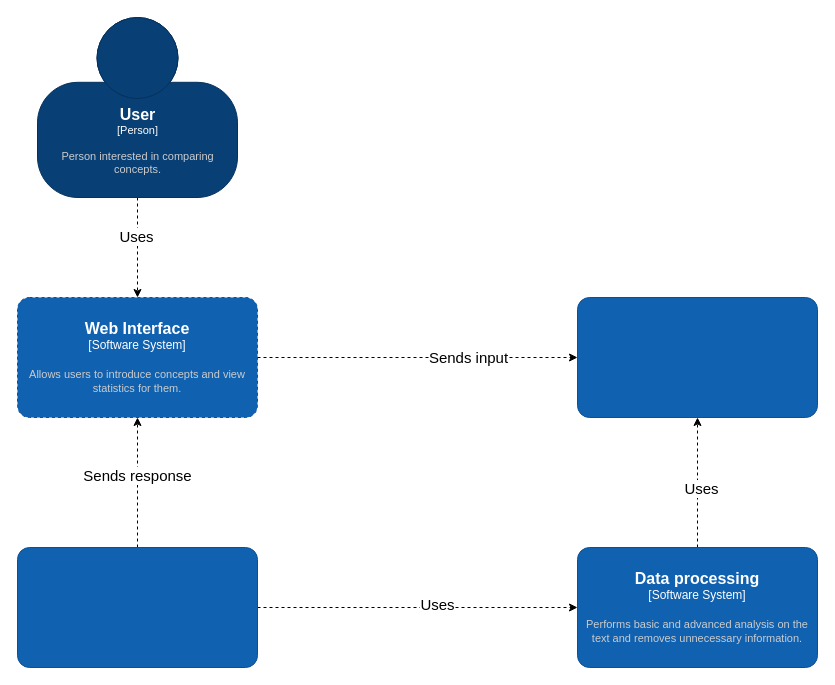
The diagram is 835 pixels wide and 685 high, and some of its shapes have lost their labels. The centre of each missing label's shape, as x and y in pixels:
Crawler [Software System] Extracts data from the Internet.: (697,357)
Statistics [Software System] Generates statistics based on the processed data.: (137,607)
